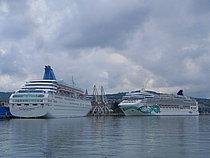Ship: (5, 62, 98, 120), (117, 85, 205, 120)
